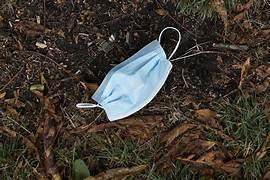Mask: (76, 27, 180, 120)
